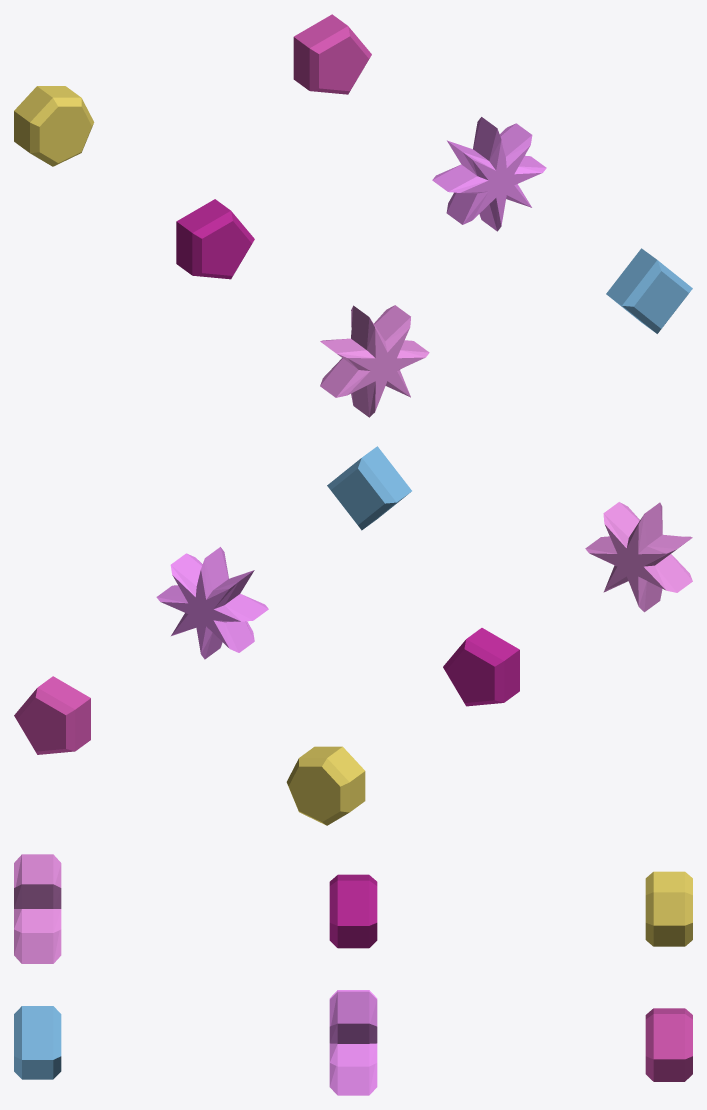
Rendered from phong_mats_3_LinearExtrusionTest_2023-06-04-21-23-00.gltf.
3 views of the same model, one above another, from view 1: azimuth 30°, elevation 25°; view 2: azimuth 150°, elevation 25°; view 3: azimuth 270°, elevation 25° (orthographic).
Bounding box in the file's own units: 268 × 71.31 × 430.
